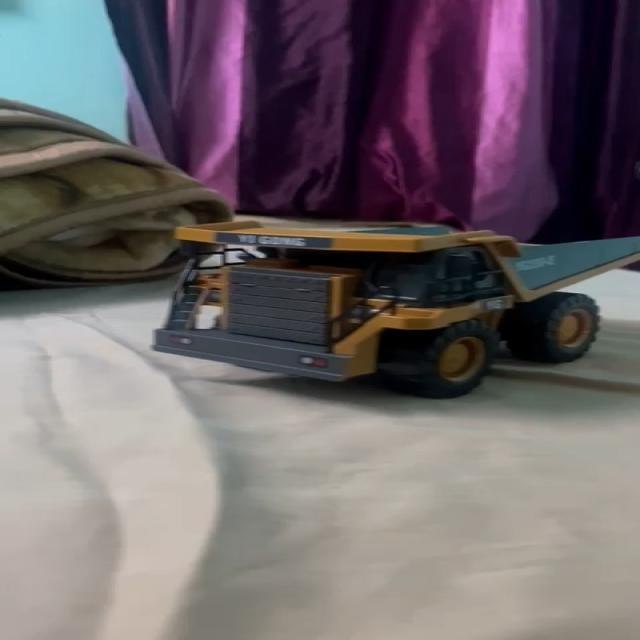dump_truck: (147, 216, 640, 390)
